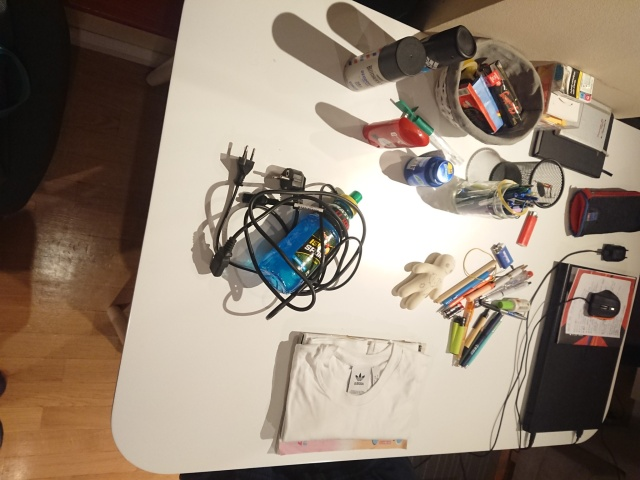Vindi Iso Sport Forest Strawberries 500mL: (256, 188, 363, 296)
